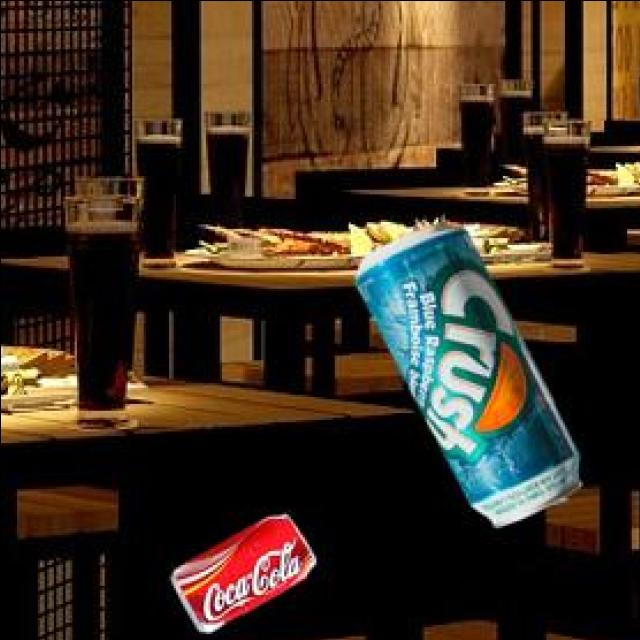logam: (351, 218, 577, 521), (167, 510, 312, 627)
